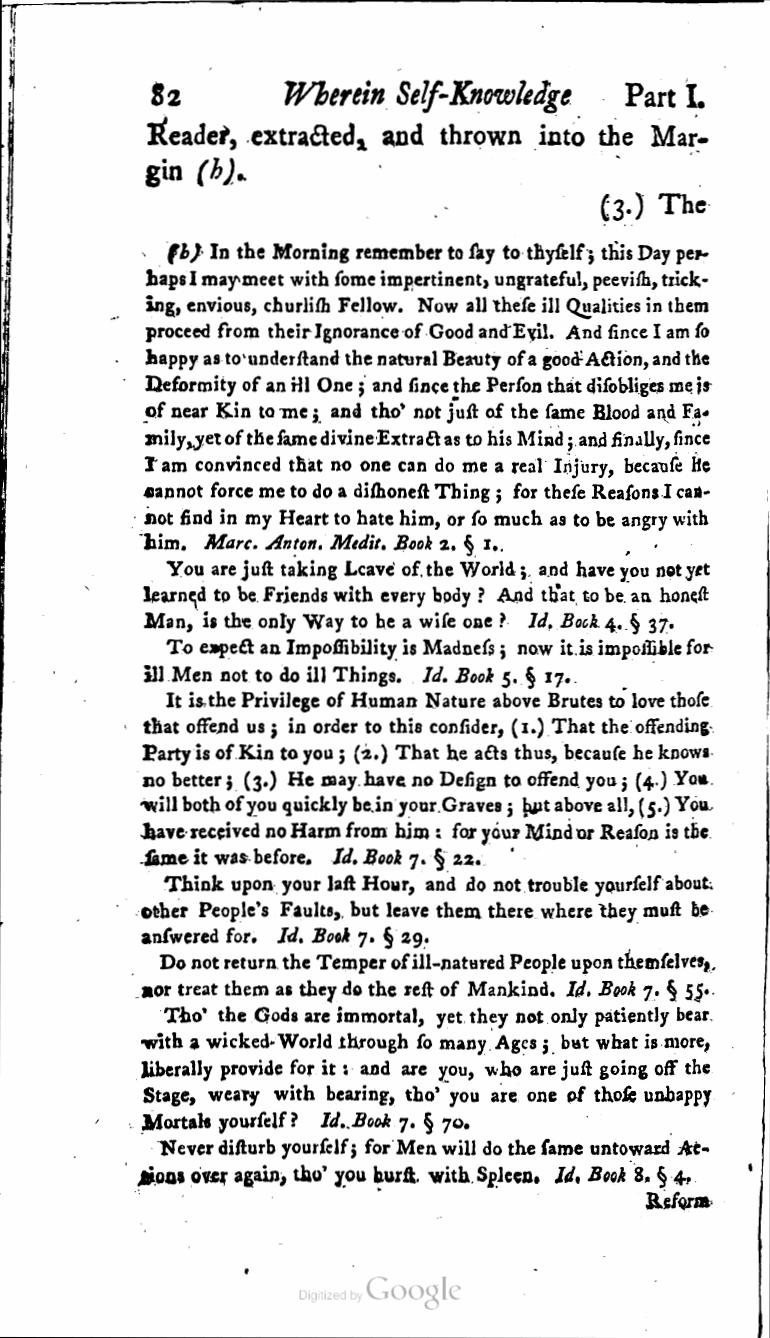bottom_p: (143, 119, 710, 189)
catchword: (599, 190, 708, 225), (644, 1191, 712, 1211)
footnotes: (137, 236, 715, 1189)
header: (281, 78, 706, 115)
page_num: (148, 80, 185, 109)
